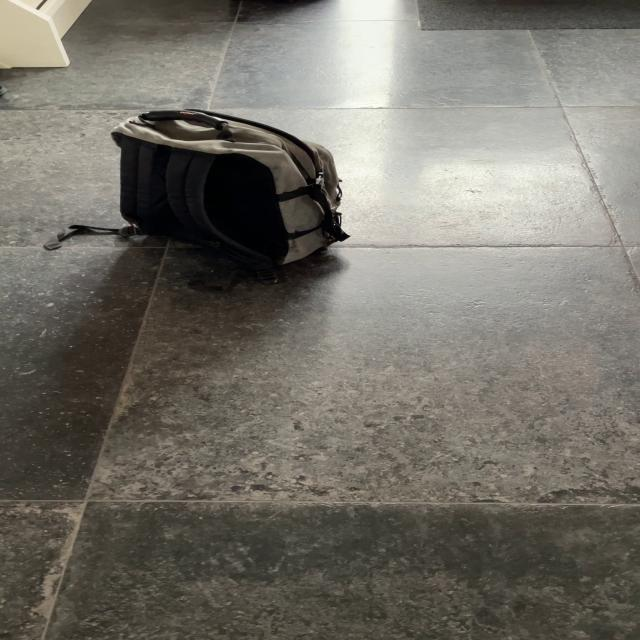backpack: (100, 103, 358, 289)
